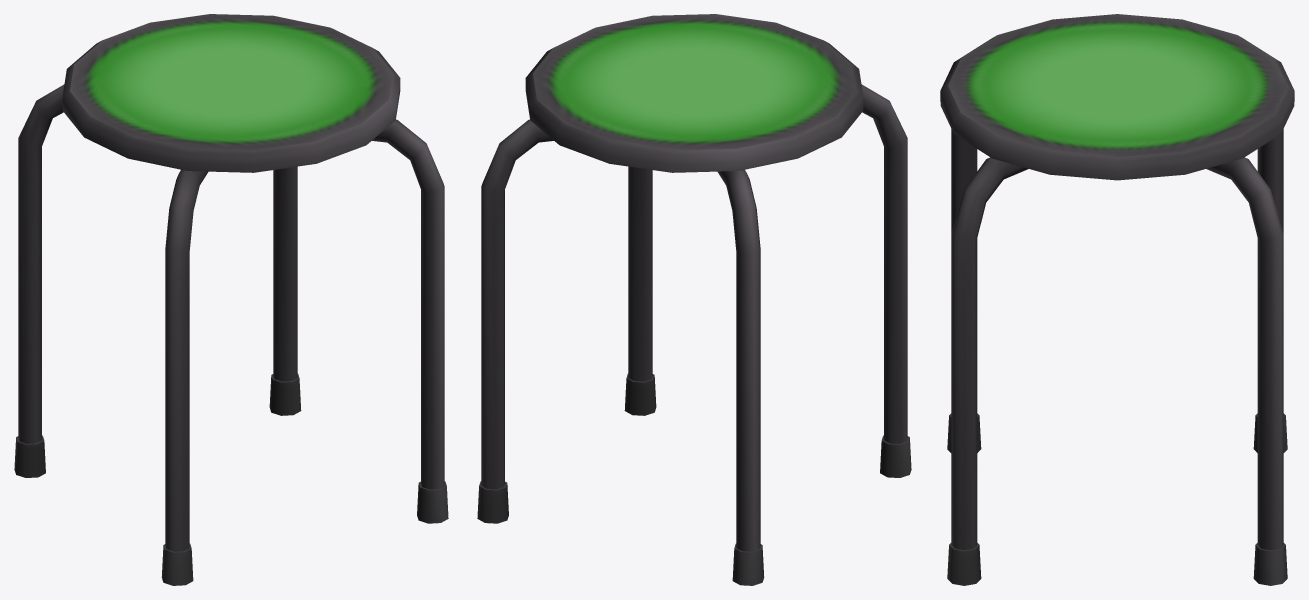
File: jsf_Chair_05.fbx
3 renders of one model, left to right at view 1: azimuth 30°, elevation 25°; view 2: azimuth 150°, elevation 25°; view 3: azimuth 270°, elevation 25°, orthographic. The views are drawn at different scales.
Visible parts, largest first — view 1: jsf_Chair_05; view 2: jsf_Chair_05; view 3: jsf_Chair_05.
Part boxes in pixels (x1,y1,x2,y2): jsf_Chair_05: (14,14,448,585); jsf_Chair_05: (477,14,911,585); jsf_Chair_05: (940,14,1294,585).
Size of the model in its own units: 33 by 44 by 33.
